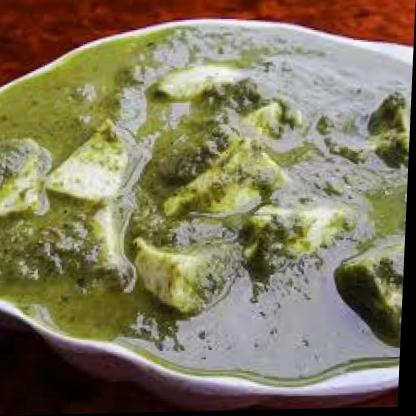palak_paneer: (0, 19, 415, 394)
